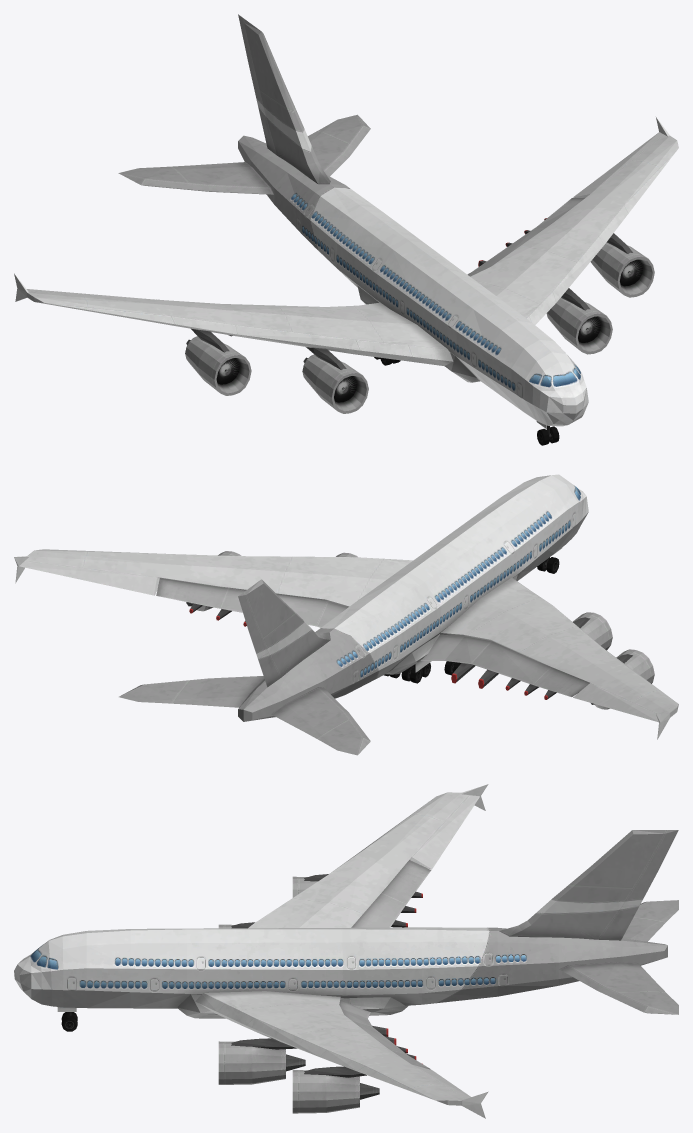
File: airplane.obj
3 views of the same model, one above another, from view 1: azimuth 30°, elevation 25°; view 2: azimuth 150°, elevation 25°; view 3: azimuth 270°, elevation 25° (orthographic).
Visible parts, largest first — view 1: airplane; view 2: airplane; view 3: airplane.
Boxes of the visible parts, x1,y1,x2,y2 form: airplane: [14, 14, 678, 445]; airplane: [14, 474, 678, 755]; airplane: [14, 784, 678, 1118].
Size of the model in its own units: 53.24 by 15.97 by 48.54.
Materials: 1 (1 with a texture image).
